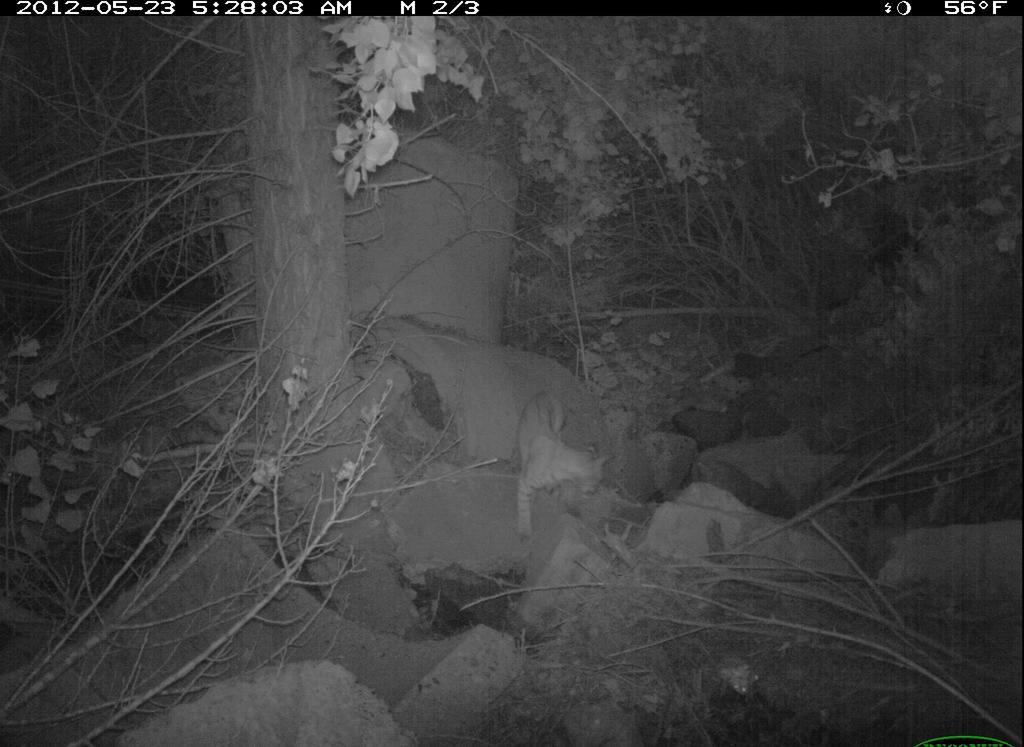bobcat: (500, 376, 620, 545)
